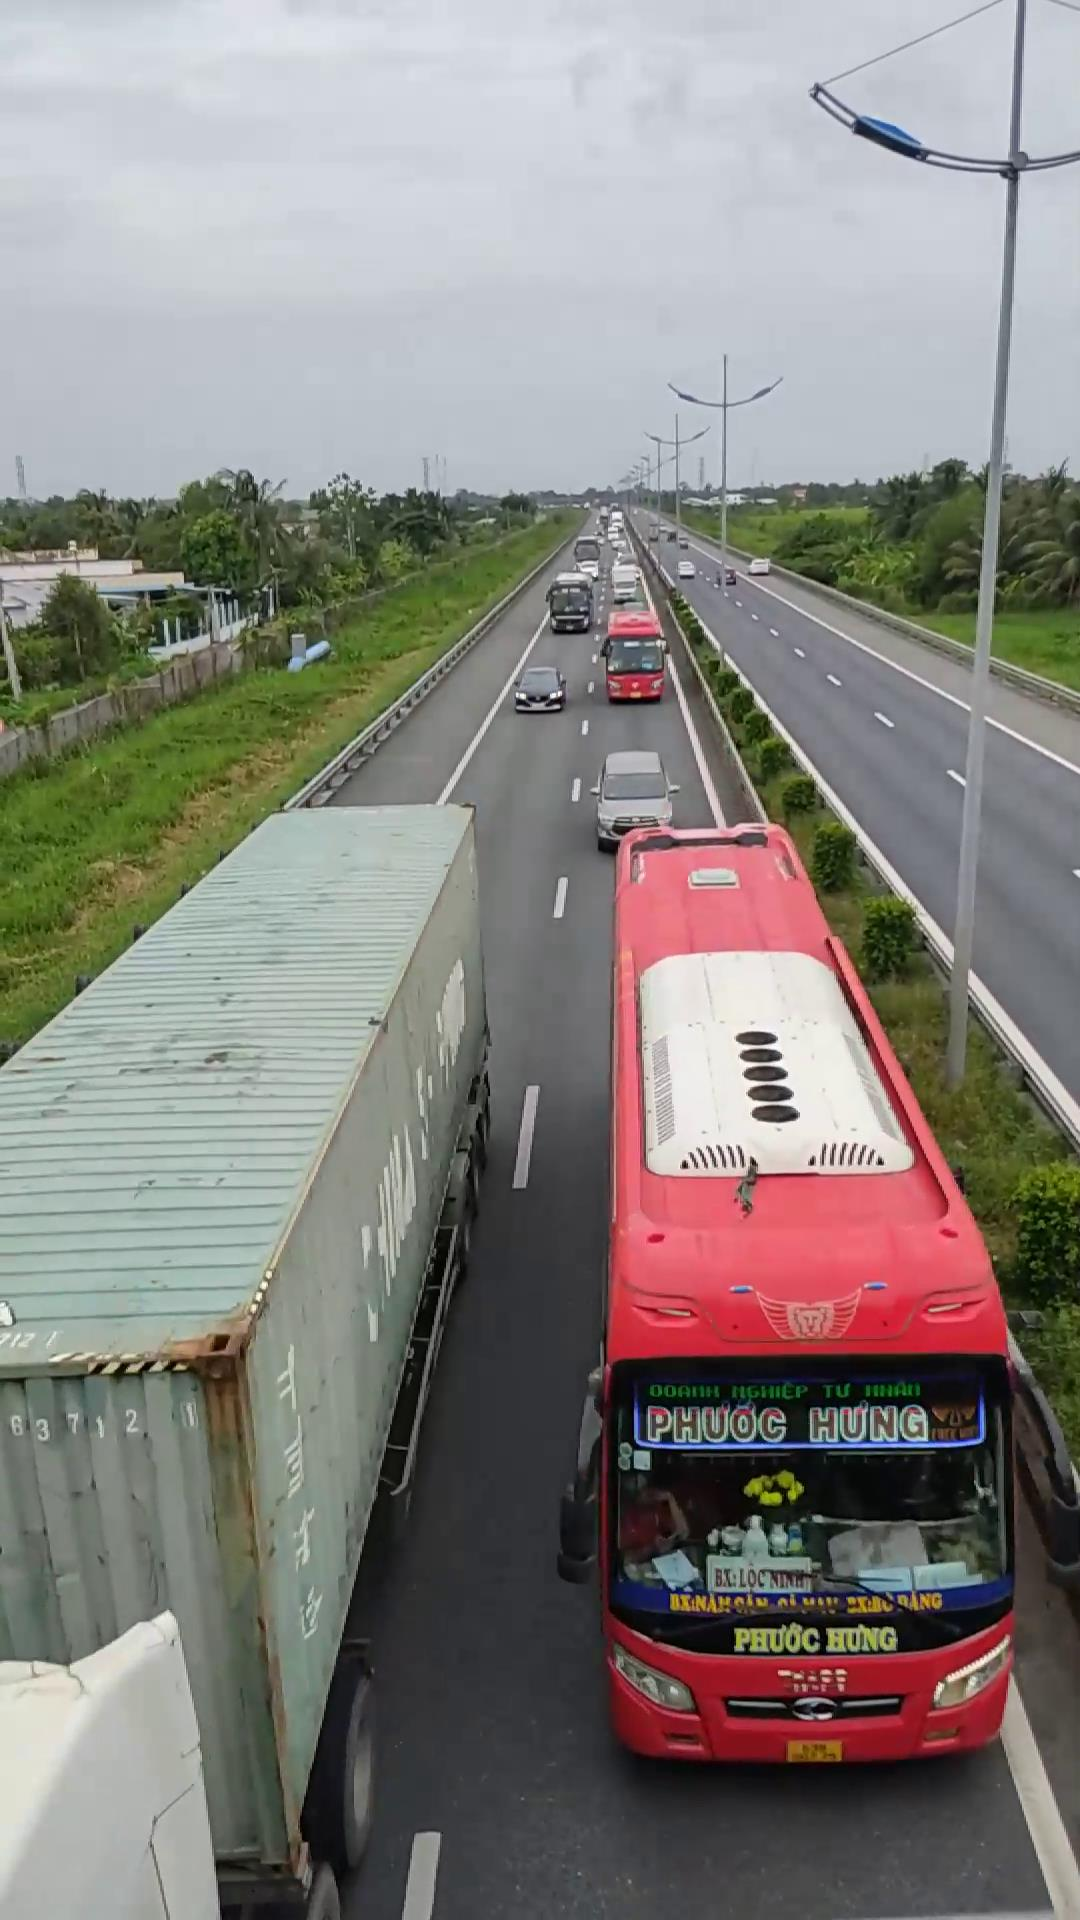bus: (579, 812, 1034, 1766)
car: (585, 749, 679, 851)
container: (2, 797, 492, 1909)
